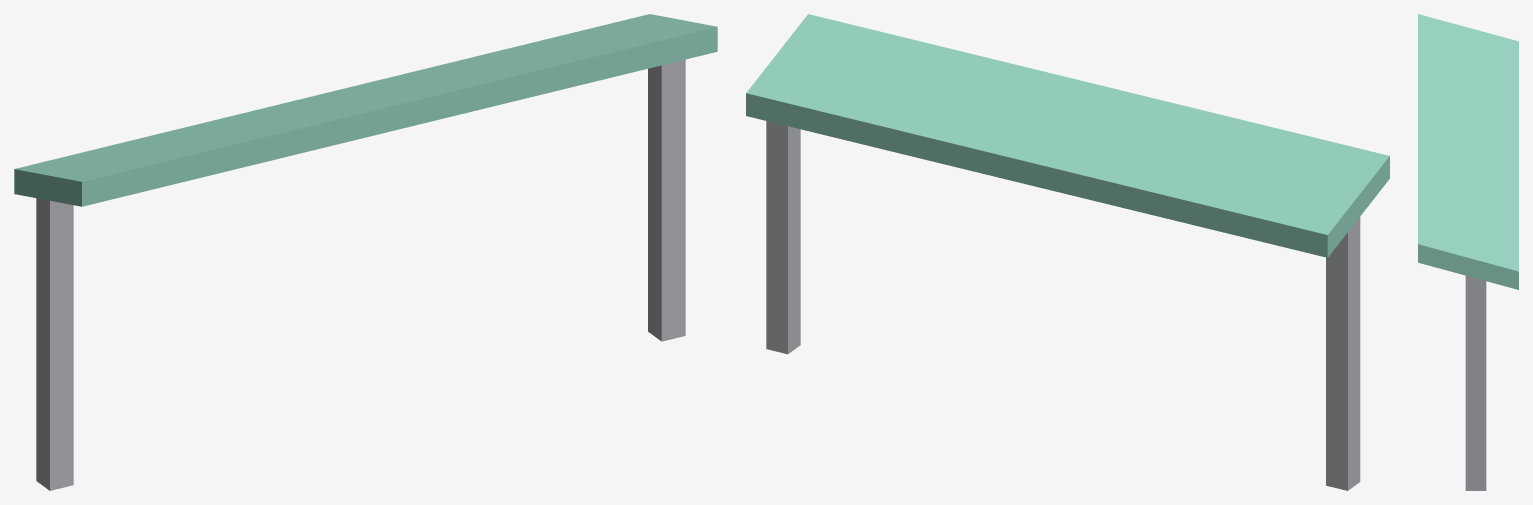
The model's file is wideAwning.glb.
3 renders of one model, left to right at view 1: azimuth 30°, elevation 25°; view 2: azimuth 150°, elevation 25°; view 3: azimuth 270°, elevation 25°, orthographic. The views are drawn at different scales.
Visible parts, largest first — view 1: detail_awningWide; view 2: detail_awningWide; view 3: detail_awningWide.
Boxes of the visible parts, left/top/right/bottom form: detail_awningWide: left=14, top=14, right=717, bottom=490; detail_awningWide: left=746, top=14, right=1389, bottom=490; detail_awningWide: left=1418, top=14, right=1518, bottom=490.
Bounding box in the file's own units: 0.8 × 0.4 × 0.1479.
